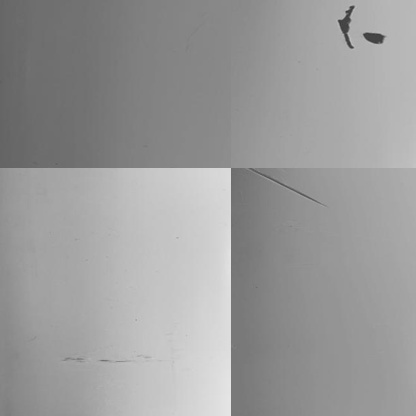kongdong: (332, 6, 354, 45), (362, 28, 384, 47)
sunshang: (240, 166, 332, 210)
